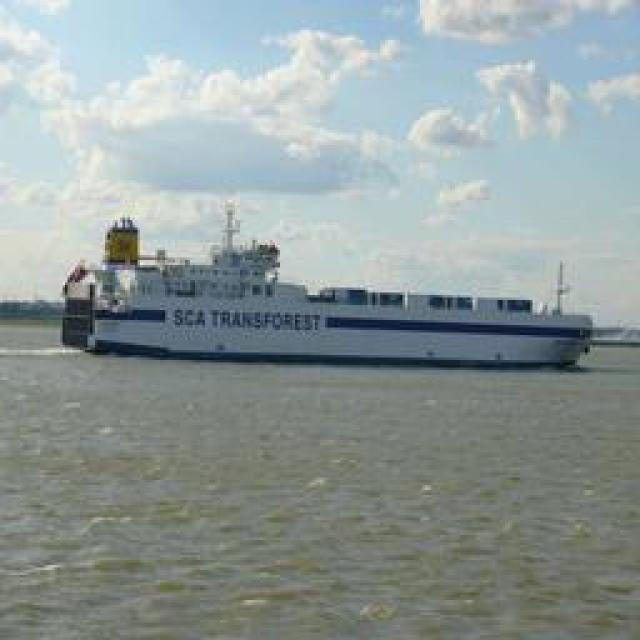CIV_Ship: (52, 208, 606, 368)
